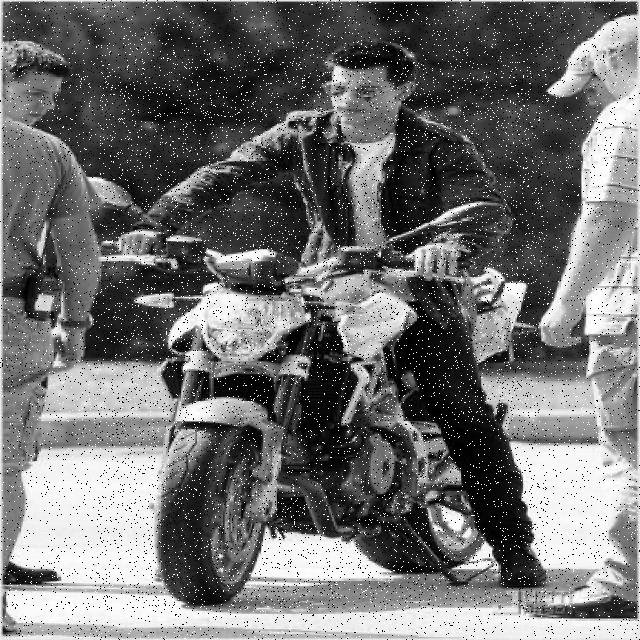Motorbike: (96, 42, 546, 609)
